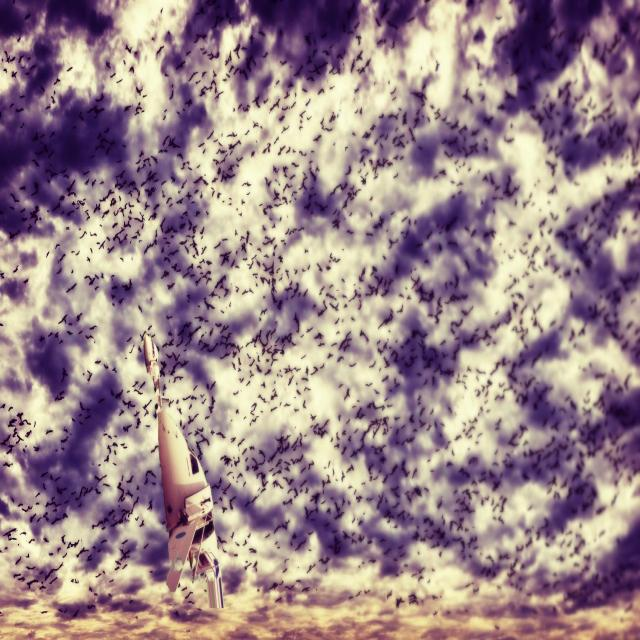airplane: (142, 331, 224, 610)
